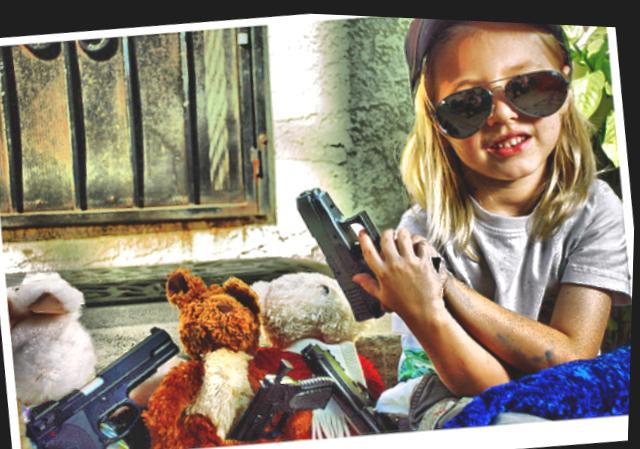pistol: (290, 166, 450, 327)
